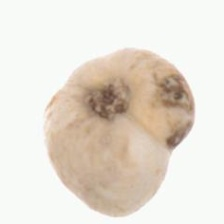L4: (44, 47, 195, 218)
